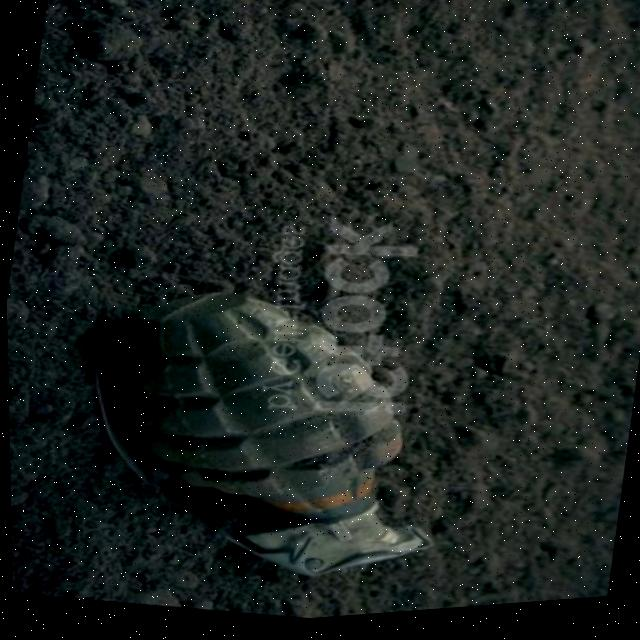grenade: (41, 244, 478, 634)
